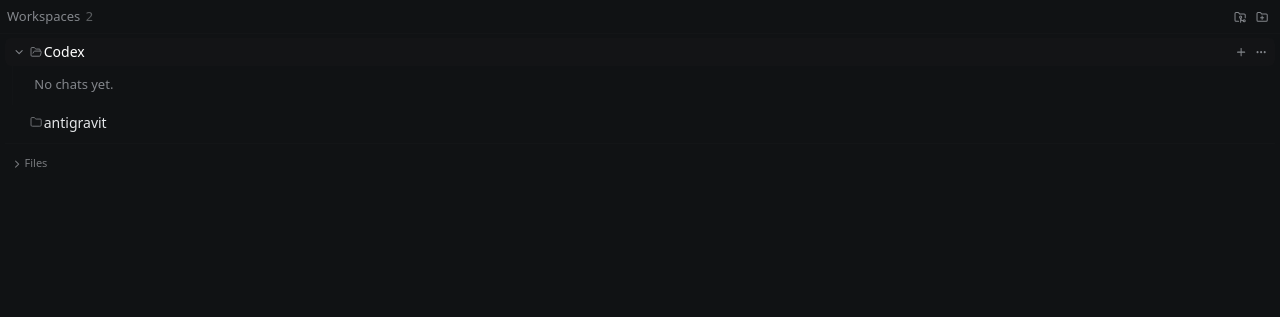
it: DockNavigator › labels the files section with the active workspace when expanded
Click the button "Files".
click(17, 164)  # box [5,151,1275,176]
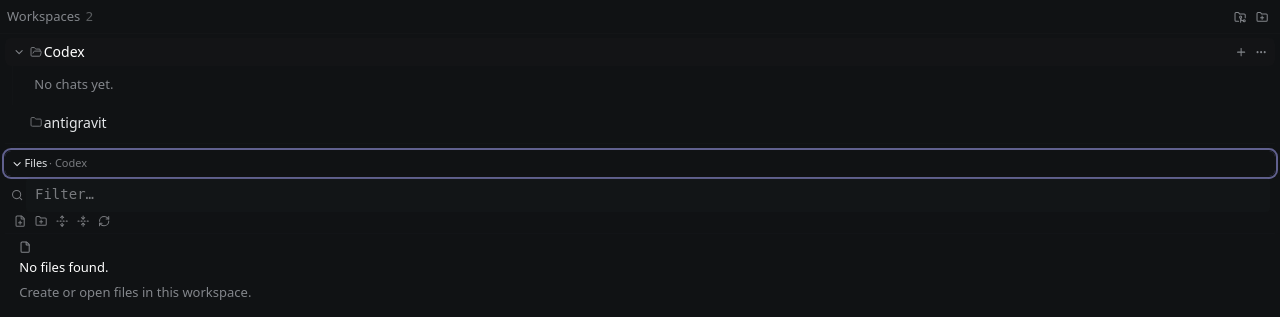
Expected: the button "Files · Codex" is shown, [5,151,1275,176]
